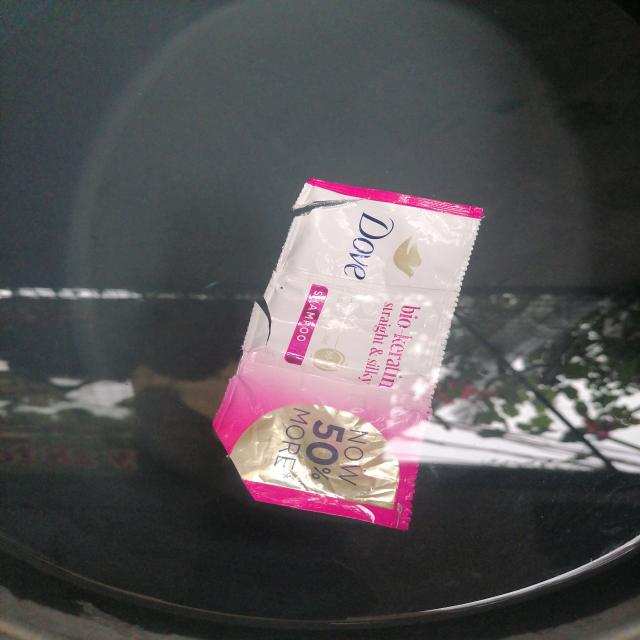Plastic Wrapper: (189, 170, 510, 536)
